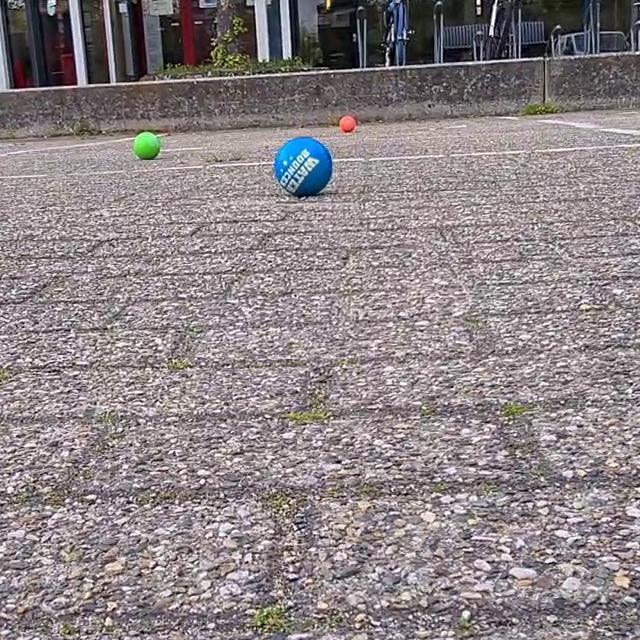ball: (132, 128, 162, 164), (338, 109, 359, 136)
